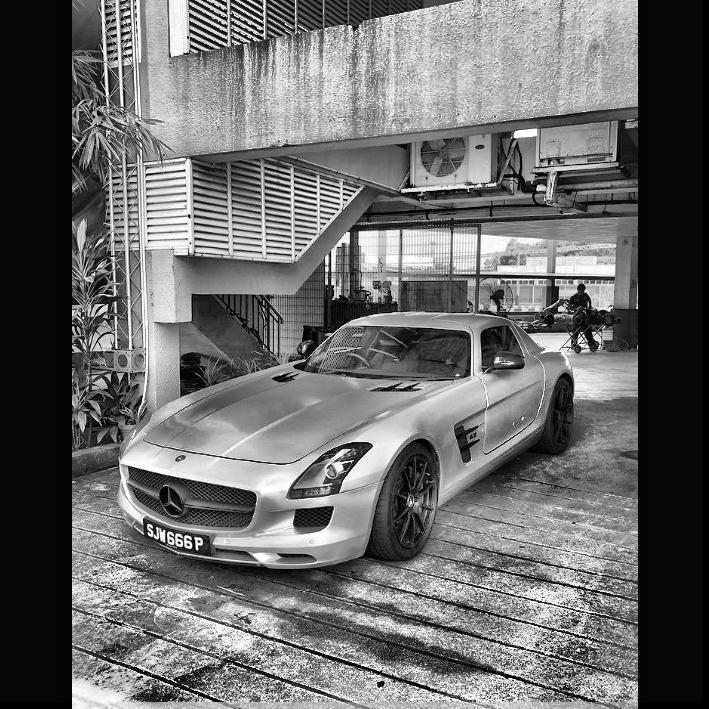License-Plates: (144, 519, 208, 553)
